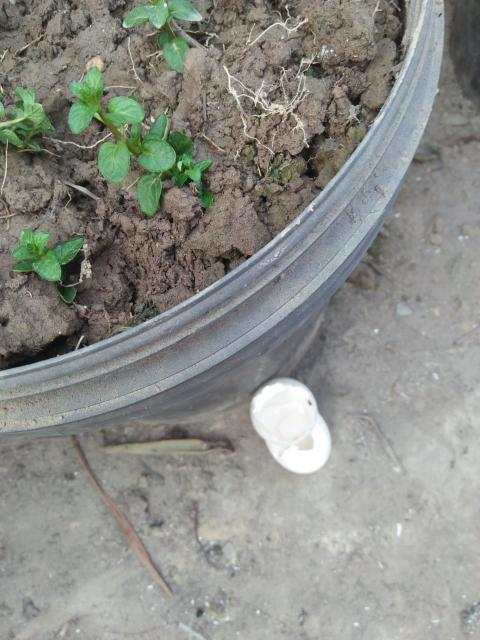Roto: (249, 376, 332, 474)
